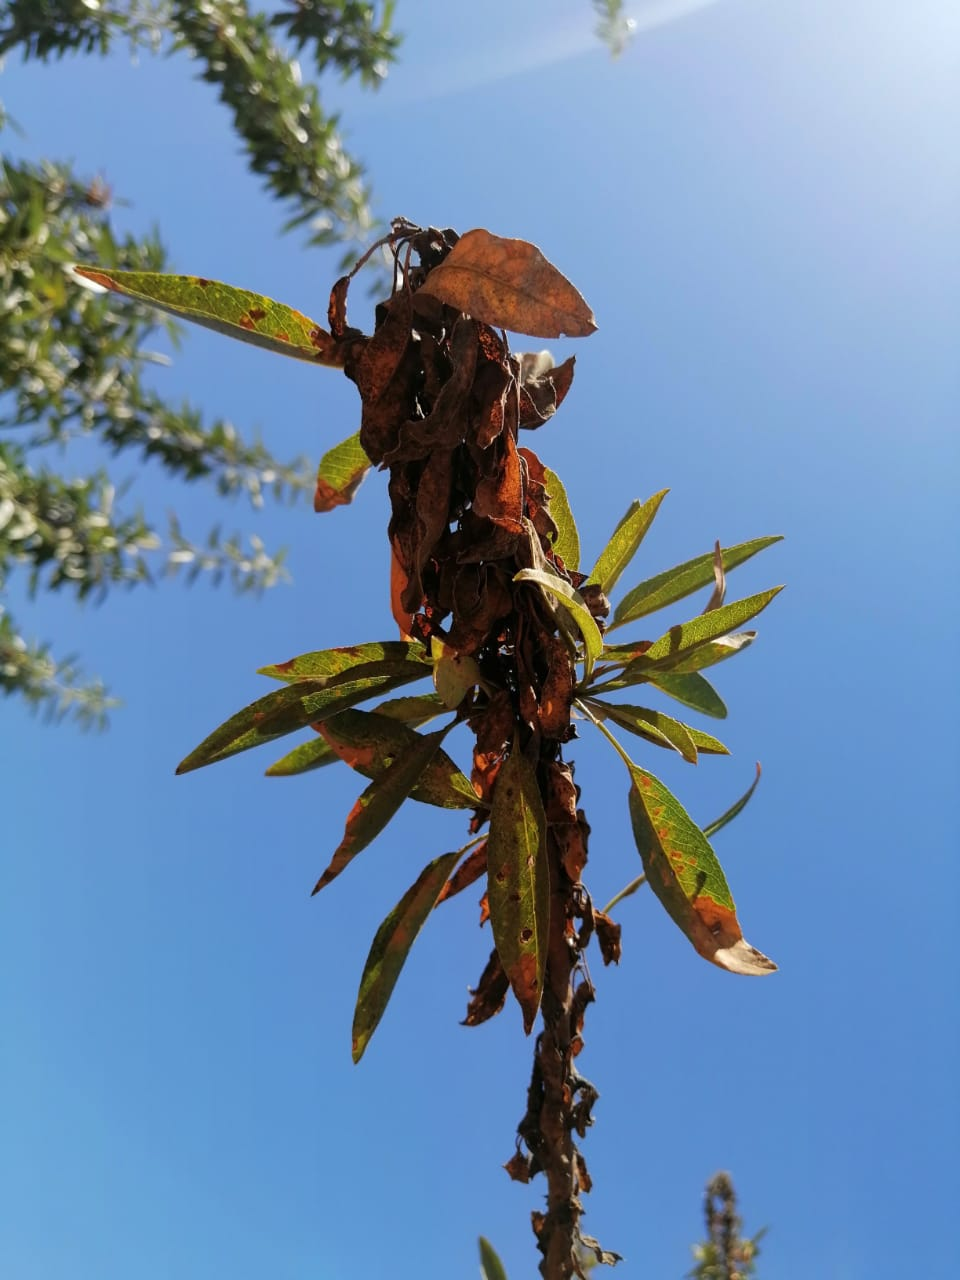scolytes: (334, 215, 621, 1280)
